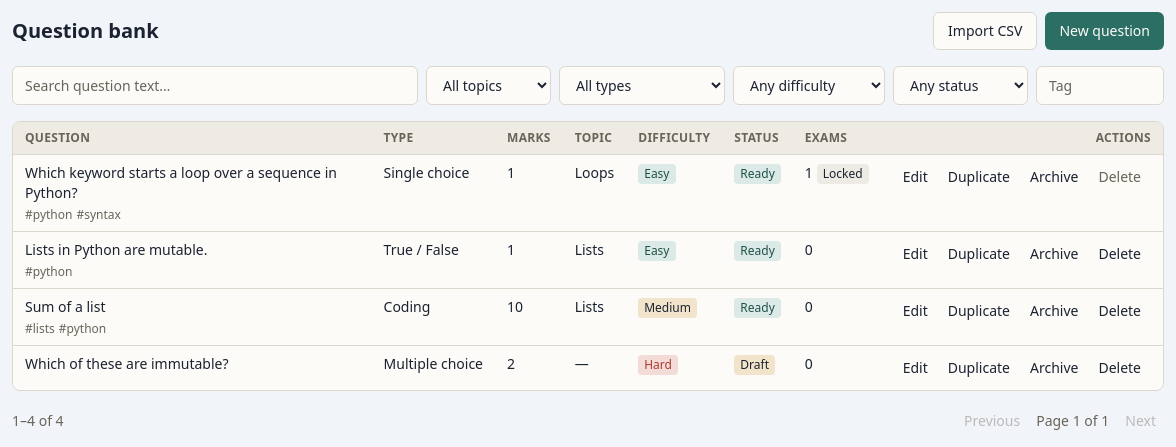
Test case: QuestionBankPage › filters by type through the API
This screenshot has width=1176, height=447.
Expected: the button "Sum of a list" is shown, [25,297,106,317]
Select "Coding" in the dropdown named "Type" at [642, 86], box [559,66,725,105]
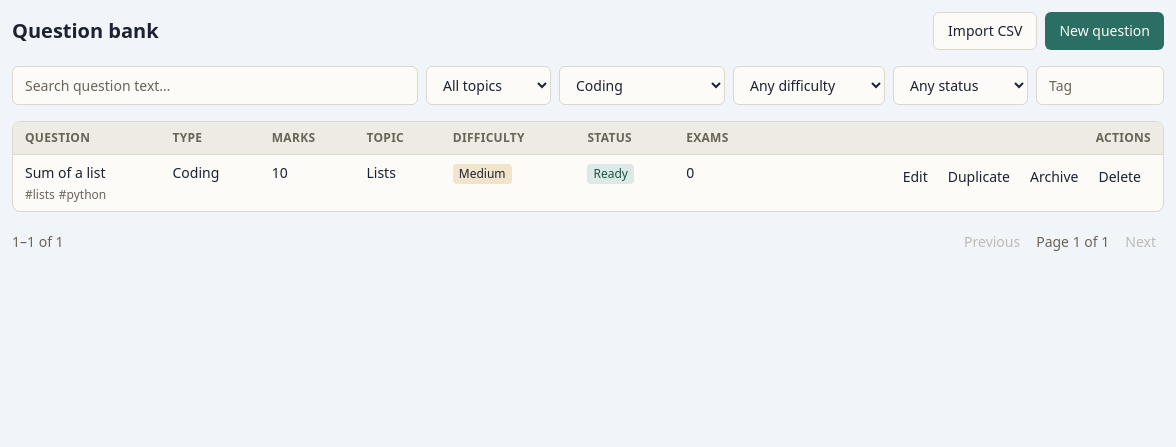
Expected: the text "1–1 of 1" is shown, [12,232,64,252]
